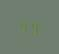four: (19, 19, 28, 33)
nine: (29, 20, 38, 34)
